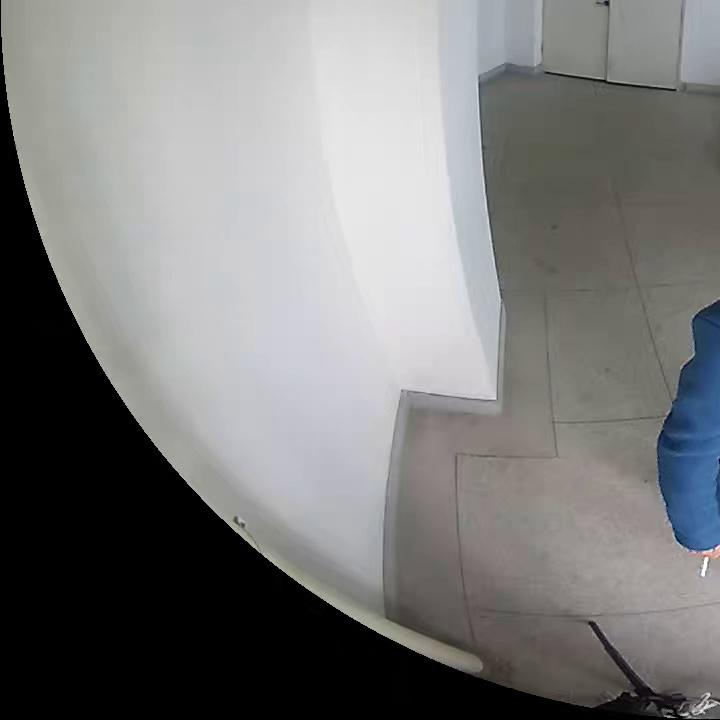handsmoke: (697, 549, 718, 577)
